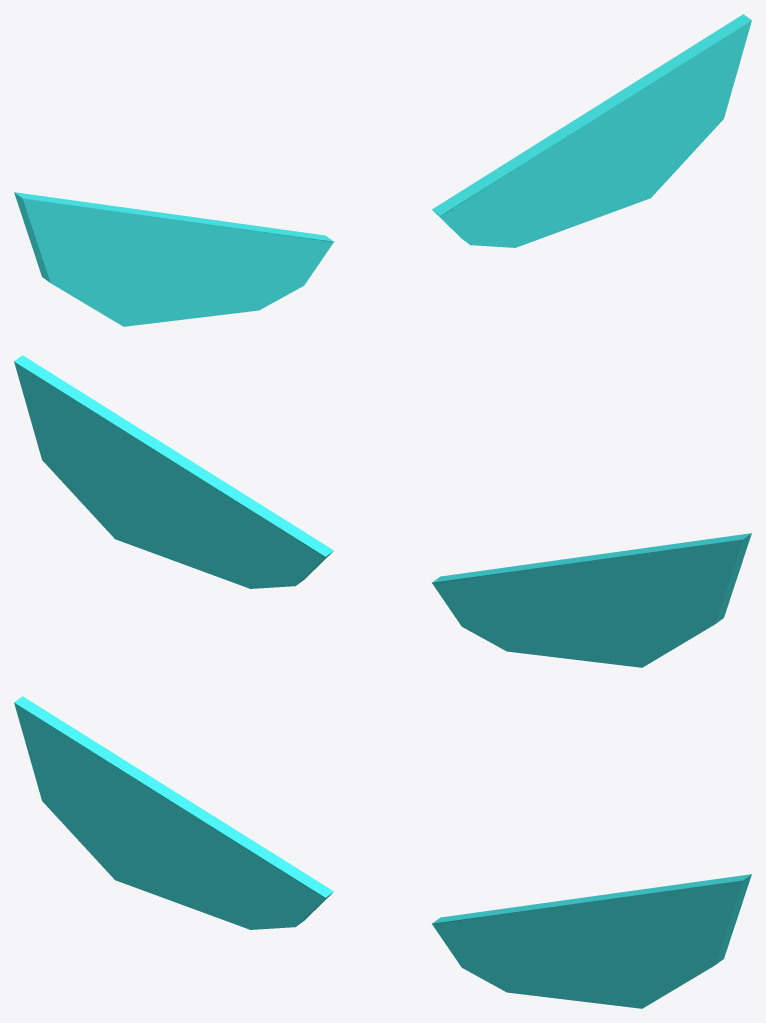
The model's file is eyes_blue.FBX.
3 views of the same model, one above another, from view 1: azimuth 30°, elevation 25°; view 2: azimuth 150°, elevation 25°; view 3: azimuth 330°, elevation 25° (orthographic).
Parts seen in each view (by area): view 1: eyes_blue; view 2: eyes_blue; view 3: eyes_blue.
Boxes of the visible parts, x1,y1,x2,y2 form: eyes_blue: (14,14,751,326); eyes_blue: (14,355,751,667); eyes_blue: (14,696,751,1008).
Bounding box in the file's own units: 38.7 × 8.61 × 0.7914.
Materials: 1 (1 with a texture image).
